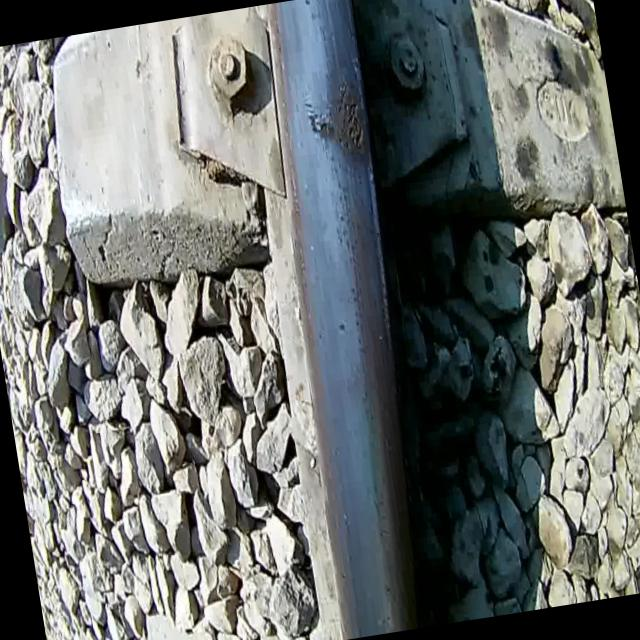Spallings: (326, 73, 369, 159)
Squats: (298, 72, 374, 178)
